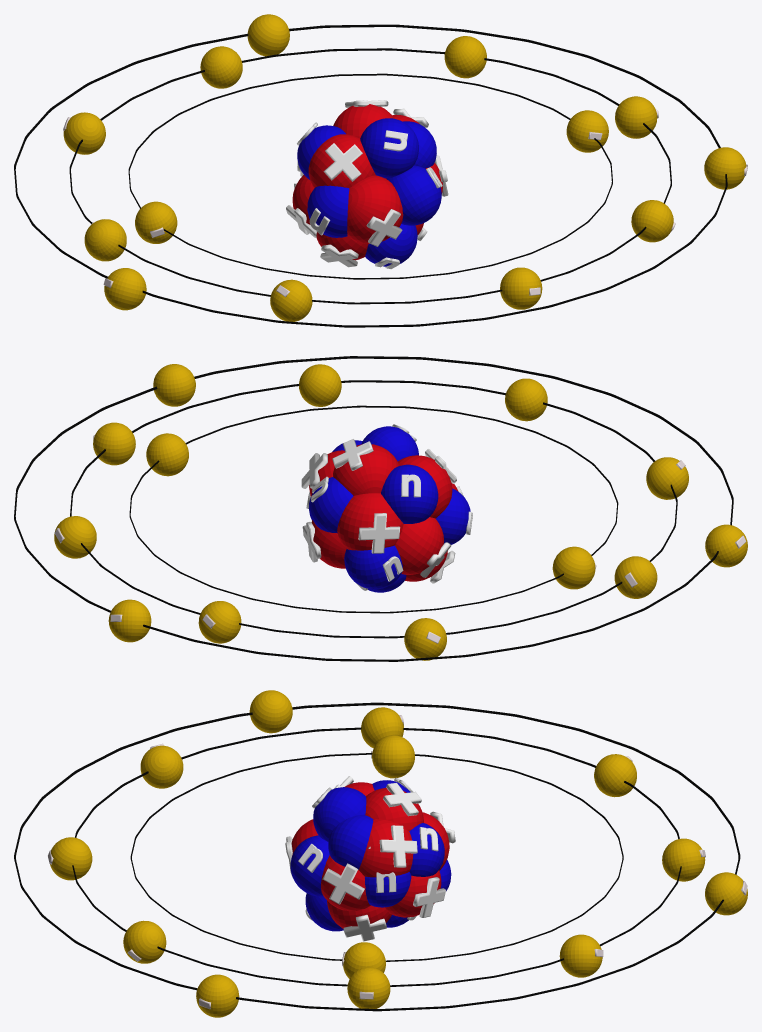
3 views of the same model, one above another, from view 1: azimuth 30°, elevation 25°; view 2: azimuth 150°, elevation 25°; view 3: azimuth 270°, elevation 25° (orthographic).
Parts seen in each view (by area): view 1: Circle.002, Circle.001, Sphere.025, Sphere.008, Circle, Sphere.012, Sphere.014, Sphere.018, Sphere.023, Sphere.016, Sphere.029, Sphere.033 (+18 smaller); view 2: Circle.002, Circle.001, Circle, Sphere.015, Sphere.005, Sphere.011, Sphere.007, Sphere.022, Sphere.002, Sphere.013, Sphere.006, Sphere.031 (+17 smaller); view 3: Circle.002, Circle.001, Circle, Sphere.024, Sphere.008, Sphere.030, Sphere.002, Sphere.032, Sphere.010, Sphere.019, Sphere.029, Sphere.006 (+20 smaller).
Boxes of the visible parts, x1,y1,x2,y2 form: Circle.002: [14, 24, 727, 327]; Circle.001: [69, 48, 671, 304]; Sphere.025: [347, 175, 403, 243]; Sphere.008: [360, 118, 418, 178]; Circle: [128, 73, 612, 279]; Sphere.012: [386, 165, 441, 225]; Sphere.014: [308, 134, 375, 187]; Sphere.018: [307, 185, 349, 237]; Sphere.023: [444, 36, 486, 78]; Sphere.016: [84, 219, 126, 261]; Sphere.029: [200, 46, 242, 88]; Sphere.033: [247, 14, 289, 56]; Circle.002: [14, 356, 733, 661]; Circle.001: [70, 380, 677, 638]; Circle: [129, 405, 618, 613]; Sphere.015: [381, 464, 438, 523]; Sphere.005: [337, 493, 403, 550]; Sphere.011: [395, 517, 443, 574]; Sphere.007: [333, 444, 398, 495]; Sphere.022: [344, 545, 402, 589]; Sphere.002: [552, 546, 595, 589]; Sphere.013: [299, 364, 341, 406]; Sphere.006: [505, 378, 547, 421]; Sphere.031: [153, 364, 195, 406]; Circle.002: [14, 702, 740, 1011]; Circle.001: [72, 727, 681, 986]; Circle: [130, 753, 623, 961]; Sphere.024: [328, 815, 373, 869]; Sphere.008: [313, 787, 366, 841]; Sphere.030: [359, 819, 413, 877]; Sphere.002: [372, 735, 414, 778]; Sphere.032: [249, 690, 292, 733]; Sphere.010: [140, 745, 183, 788]; Sphere.019: [594, 754, 636, 797]; Sphere.029: [662, 838, 705, 881]; Sphere.006: [50, 837, 92, 880].
Bounding box in the file's own units: 85.68 × 18.91 × 85.7.
